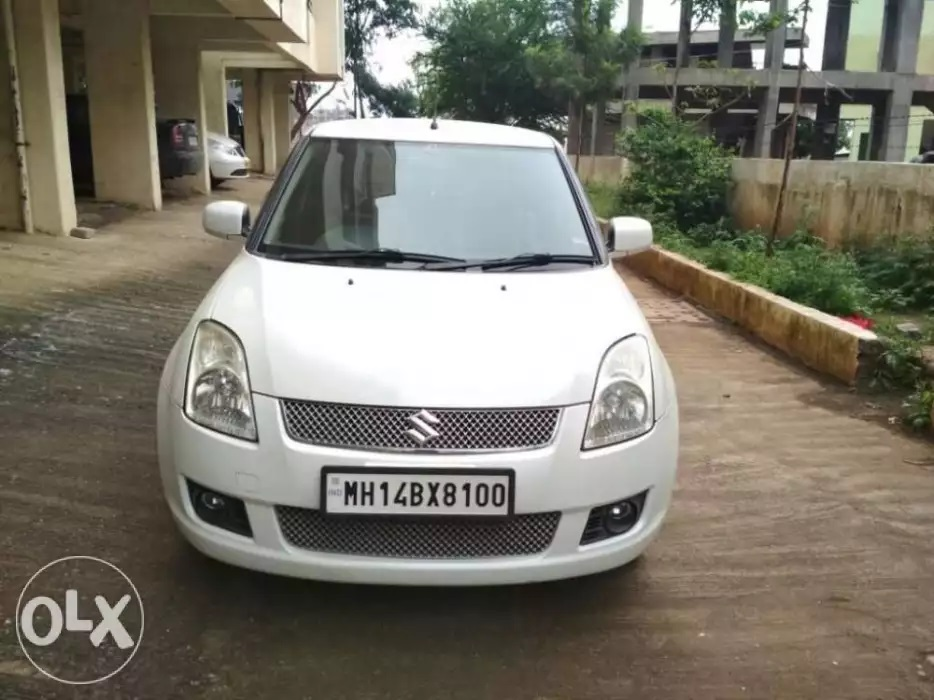licenseplate: (319, 464, 516, 519)
